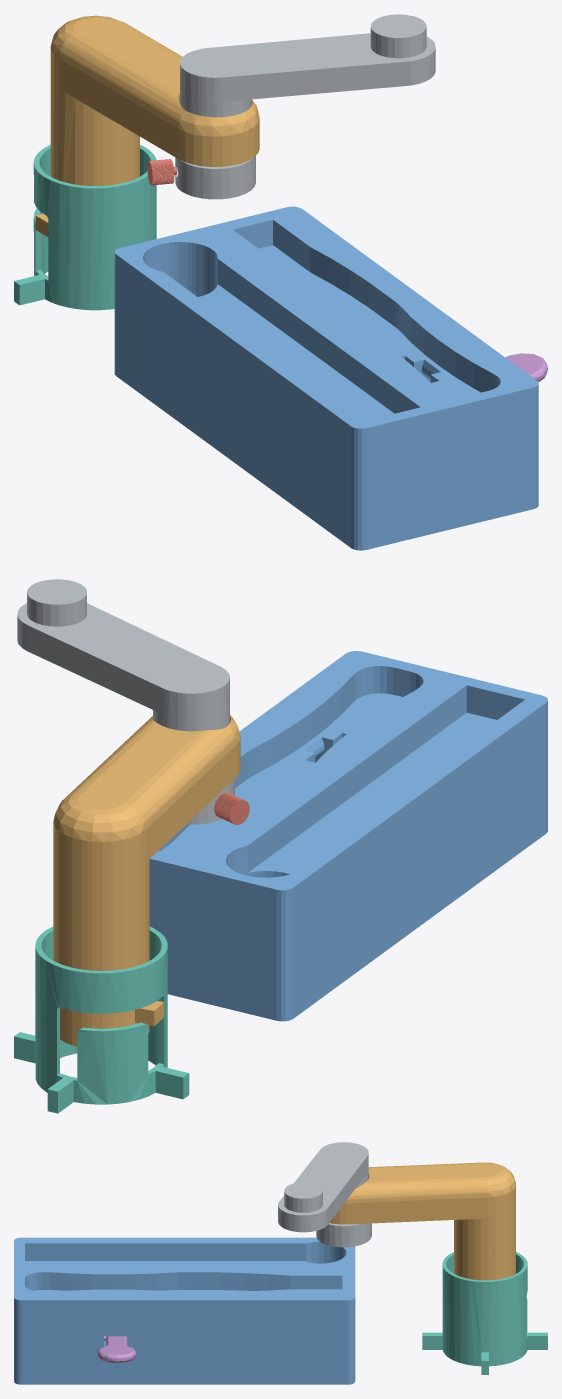
Rendered from gabarito.glb.
3 renders of one model, top to bottom at view 1: azimuth 30°, elevation 25°; view 2: azimuth 150°, elevation 25°; view 3: azimuth 270°, elevation 25°, orthographic. The views are drawn at different scales.
Visible parts, largest first — view 1: base_gabarito, braco_laranja, braco_cinza, coluna_cilindro, alavanca_lateral, parafuso; view 2: base_gabarito, braco_laranja, coluna_cilindro, braco_cinza, parafuso; view 3: base_gabarito, braco_laranja, coluna_cilindro, braco_cinza, alavanca_lateral.
Part boxes in pixels (left/top/right/bottom): base_gabarito: left=114, top=206, right=538, bottom=550; braco_laranja: left=35, top=15, right=259, bottom=236; braco_cinza: left=175, top=14, right=435, bottom=199; coluna_cilindro: left=14, top=145, right=156, bottom=310; alavanca_lateral: left=505, top=353, right=547, bottom=381; parafuso: left=147, top=159, right=176, bottom=185; base_gabarito: left=149, top=651, right=547, bottom=1021; braco_laranja: left=53, top=715, right=240, bottom=1046; coluna_cilindro: left=14, top=926, right=189, bottom=1113; braco_cinza: left=17, top=579, right=234, bottom=824; parafuso: left=214, top=792, right=249, bottom=824; base_gabarito: left=14, top=1237, right=355, bottom=1384; braco_laranja: left=329, top=1162, right=515, bottom=1280; coluna_cilindro: left=422, top=1252, right=547, bottom=1374; braco_cinza: left=278, top=1142, right=371, bottom=1247; alavanca_lateral: left=97, top=1336, right=136, bottom=1362.
Bounding box in the file's own units: 0.1458 × 0.1537 × 0.3442.
